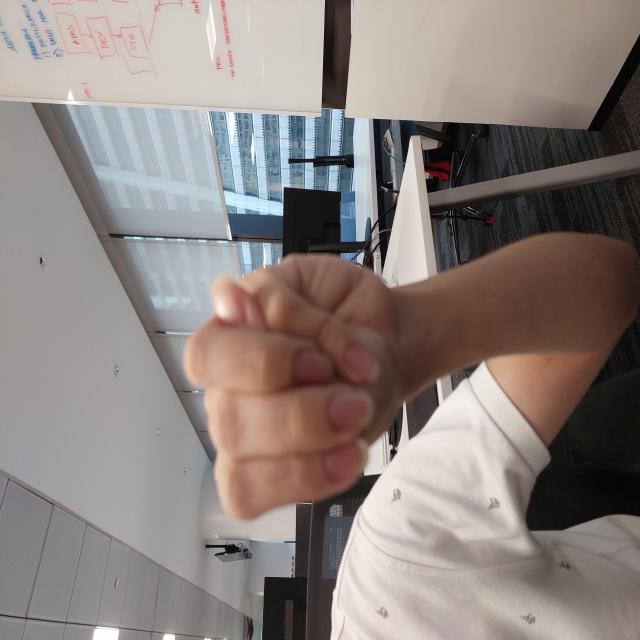M: (115, 182, 386, 410)
